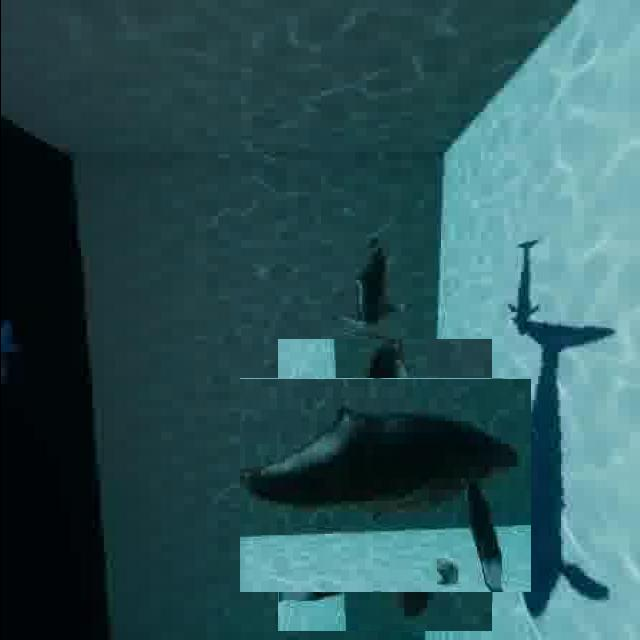Whale: (258, 358, 511, 612)
